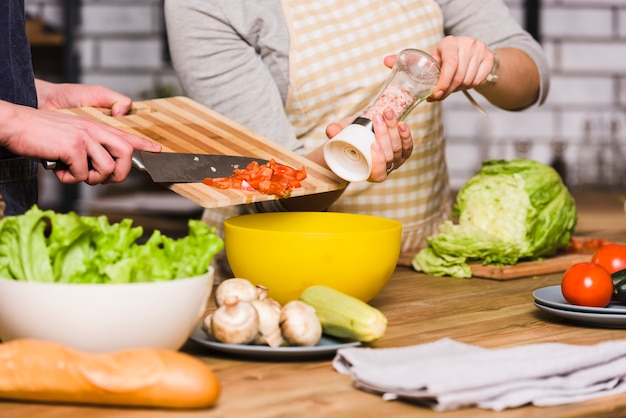knife: (136, 147, 301, 180)
